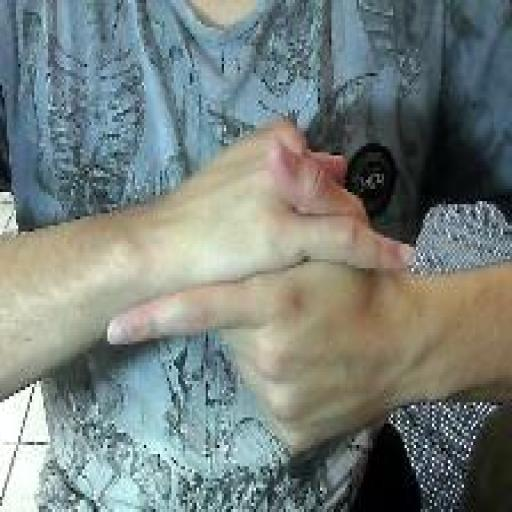U -hare-: (99, 110, 422, 460)
